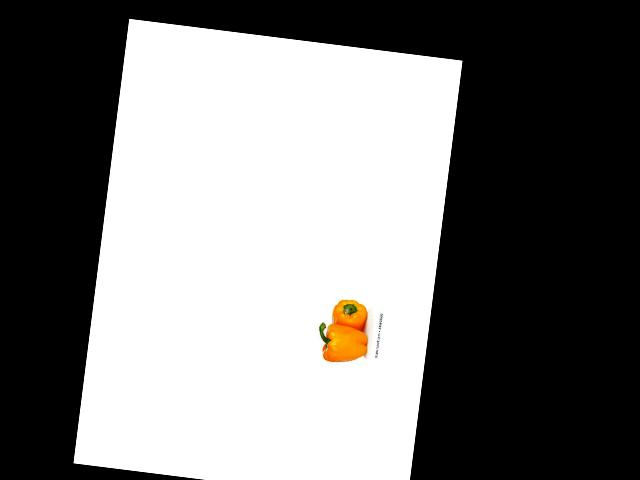bell_pepper: (328, 297, 370, 333)
